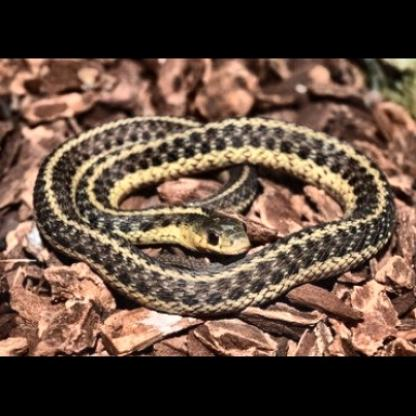Snake: (34, 112, 402, 321)
